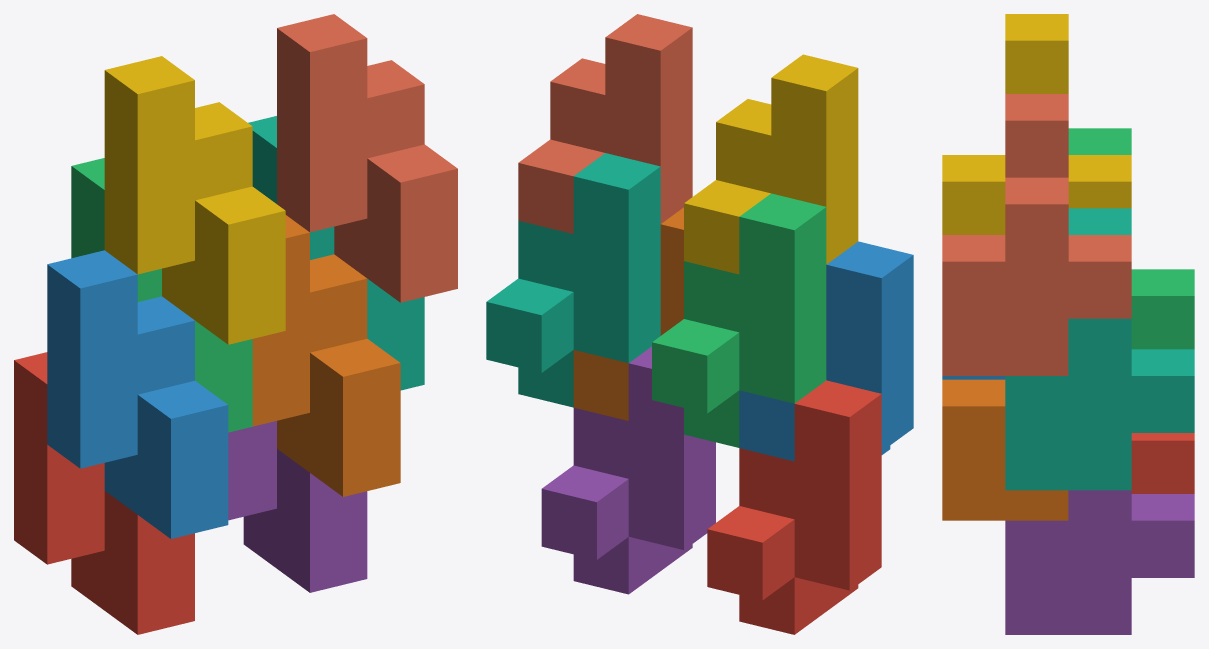
The model's file is tiling.obj.
The picture shows the model from 3 angles, left to right: view 1: azimuth 30°, elevation 25°; view 2: azimuth 150°, elevation 25°; view 3: azimuth 270°, elevation 25°; orthographic projection. The views are drawn at different scales.
Visible parts, largest first — view 1: copy_1_domain_4, copy_1_domain_2, copy_1_domain_8, copy_1_domain_6, copy_1_domain_1, copy_1_domain_5, copy_1_domain_3, copy_1_domain_7; view 2: copy_1_domain_1, copy_1_domain_3, copy_1_domain_7, copy_1_domain_5, copy_1_domain_4, copy_1_domain_8, copy_1_domain_2, copy_1_domain_6; view 3: copy_1_domain_8, copy_1_domain_7, copy_1_domain_5, copy_1_domain_4, copy_1_domain_6, copy_1_domain_3, copy_1_domain_1.
Part boxes in pixels (x1=…): copy_1_domain_4: x1=104, y1=56, x2=285, y2=344; copy_1_domain_2: x1=47, y1=250, x2=228, y2=538; copy_1_domain_8: x1=277, y1=14, x2=457, y2=302; copy_1_domain_6: x1=252, y1=215, x2=400, y2=496; copy_1_domain_1: x1=14, y1=352, x2=194, y2=634; copy_1_domain_5: x1=228, y1=421, x2=367, y2=592; copy_1_domain_3: x1=71, y1=158, x2=252, y2=432; copy_1_domain_7: x1=248, y1=116, x2=424, y2=390; copy_1_domain_1: x1=707, y1=380, x2=881, y2=634; copy_1_domain_3: x1=652, y1=193, x2=826, y2=447; copy_1_domain_7: x1=486, y1=153, x2=660, y2=407; copy_1_domain_5: x1=541, y1=346, x2=715, y2=594; copy_1_domain_4: x1=684, y1=54, x2=858, y2=274; copy_1_domain_8: x1=518, y1=14, x2=692, y2=233; copy_1_domain_2: x1=739, y1=241, x2=913, y2=461; copy_1_domain_6: x1=573, y1=207, x2=683, y2=420; copy_1_domain_8: x1=942, y1=94, x2=1131, y2=375; copy_1_domain_7: x1=1005, y1=208, x2=1194, y2=490; copy_1_domain_5: x1=1005, y1=490, x2=1194, y2=634; copy_1_domain_4: x1=942, y1=14, x2=1131, y2=234; copy_1_domain_6: x1=942, y1=379, x2=1068, y2=520; copy_1_domain_3: x1=1068, y1=128, x2=1194, y2=349; copy_1_domain_1: x1=1131, y1=433, x2=1194, y2=493.
Size of the model in its own units: 6 by 9 by 4.
